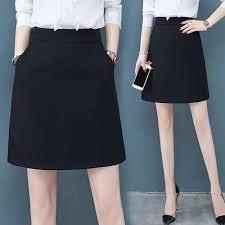skirt: (6, 27, 126, 169), (135, 12, 211, 104)
